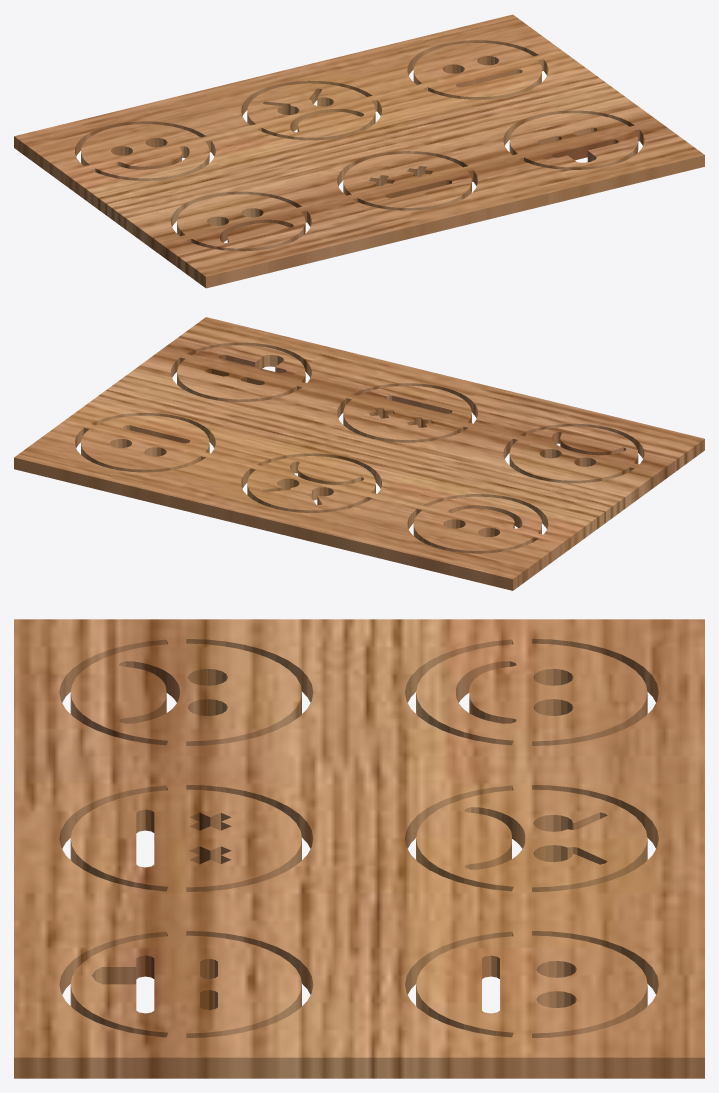
The model's file is oak.glb.
3 renders of one model, top to bottom at view 1: azimuth 30°, elevation 25°; view 2: azimuth 150°, elevation 25°; view 3: azimuth 270°, elevation 25°, orthographic. The views are drawn at different scales.
Bounding box in the file's own units: 0.118 × 0.00264 × 0.0787.
1 material, 1 textured.
